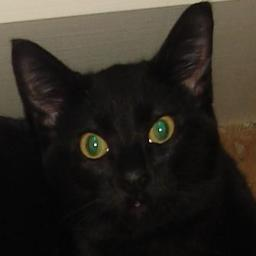catnose: (117, 167, 152, 197)
